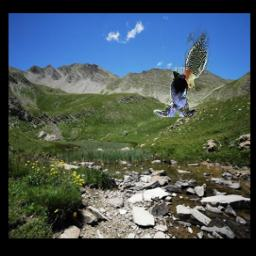Crow: (153, 68, 196, 118)
Woodpecker: (183, 21, 220, 91)
